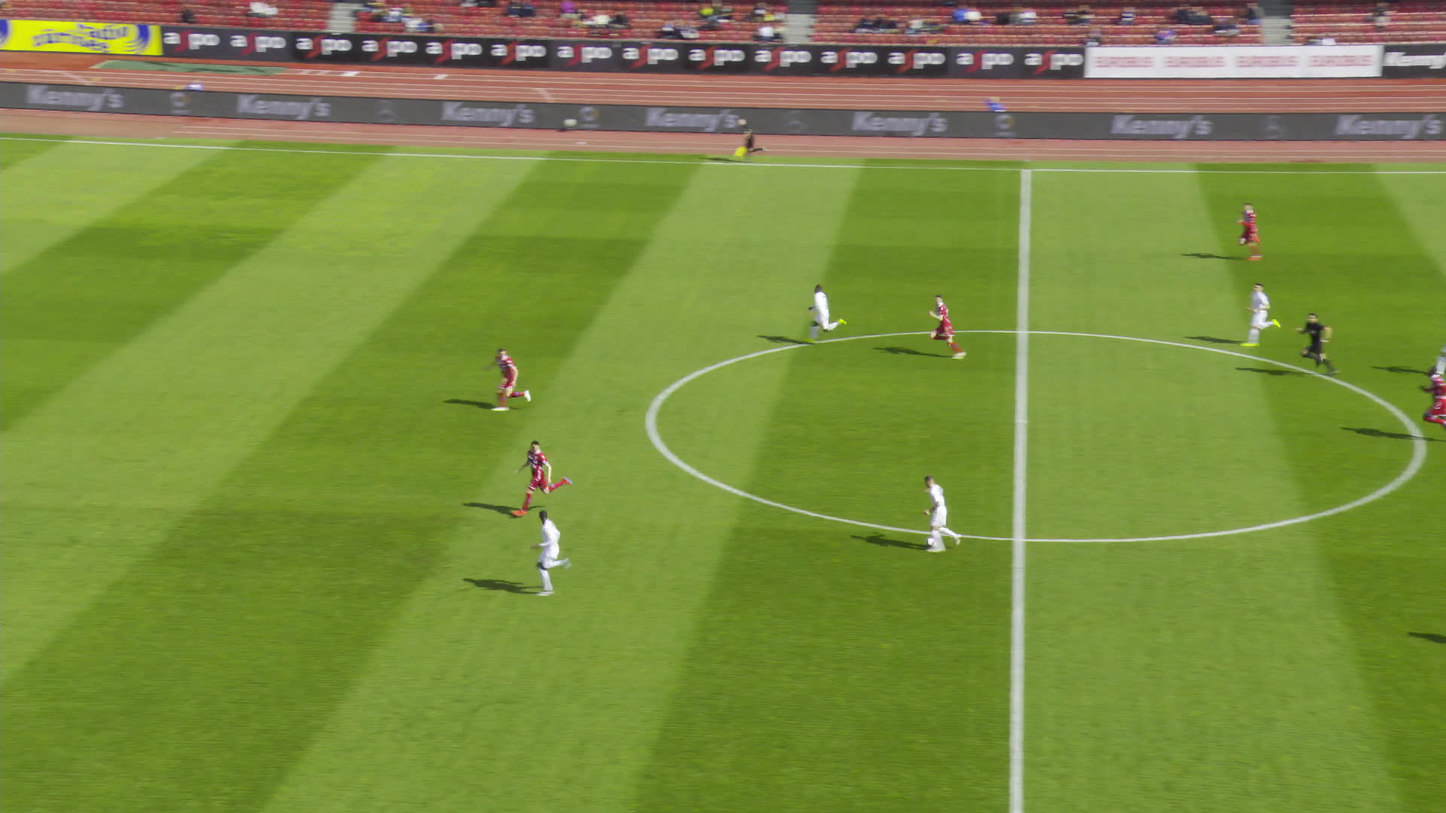ball: (917, 537, 928, 546)
player: (914, 476, 963, 549), (530, 509, 571, 594), (517, 440, 563, 514), (923, 293, 974, 355), (481, 348, 530, 410), (1233, 283, 1277, 343), (807, 283, 844, 346), (1418, 365, 1445, 426), (1236, 202, 1262, 260), (1423, 310, 1445, 372)
referee: (1290, 310, 1325, 374), (730, 117, 761, 162)
